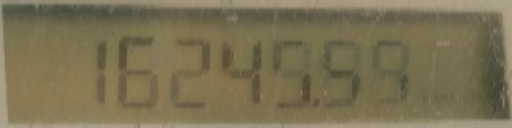1: (67, 30, 112, 110)
2: (167, 32, 212, 112)
4: (219, 34, 264, 114)
6: (115, 33, 160, 113)
9: (267, 31, 312, 111), (320, 32, 365, 112), (368, 30, 413, 110)
d: (311, 92, 323, 111)
